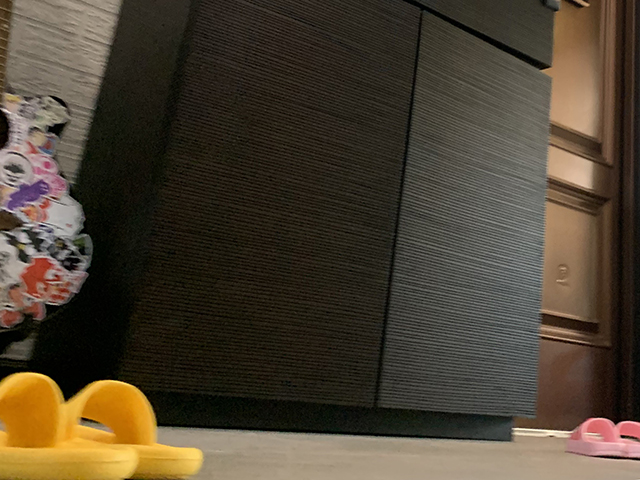cabinet: (30, 1, 558, 441)
slippers: (1, 367, 136, 480), (64, 378, 204, 480), (564, 417, 625, 461)
